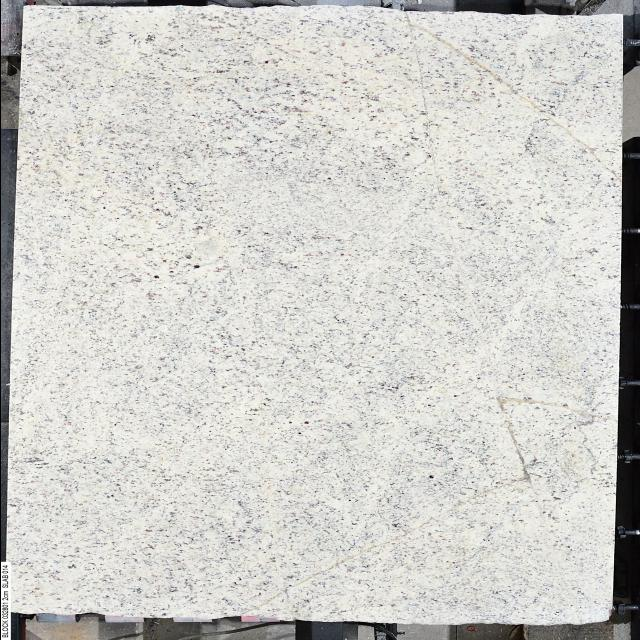chapa: (8, 6, 620, 624)
